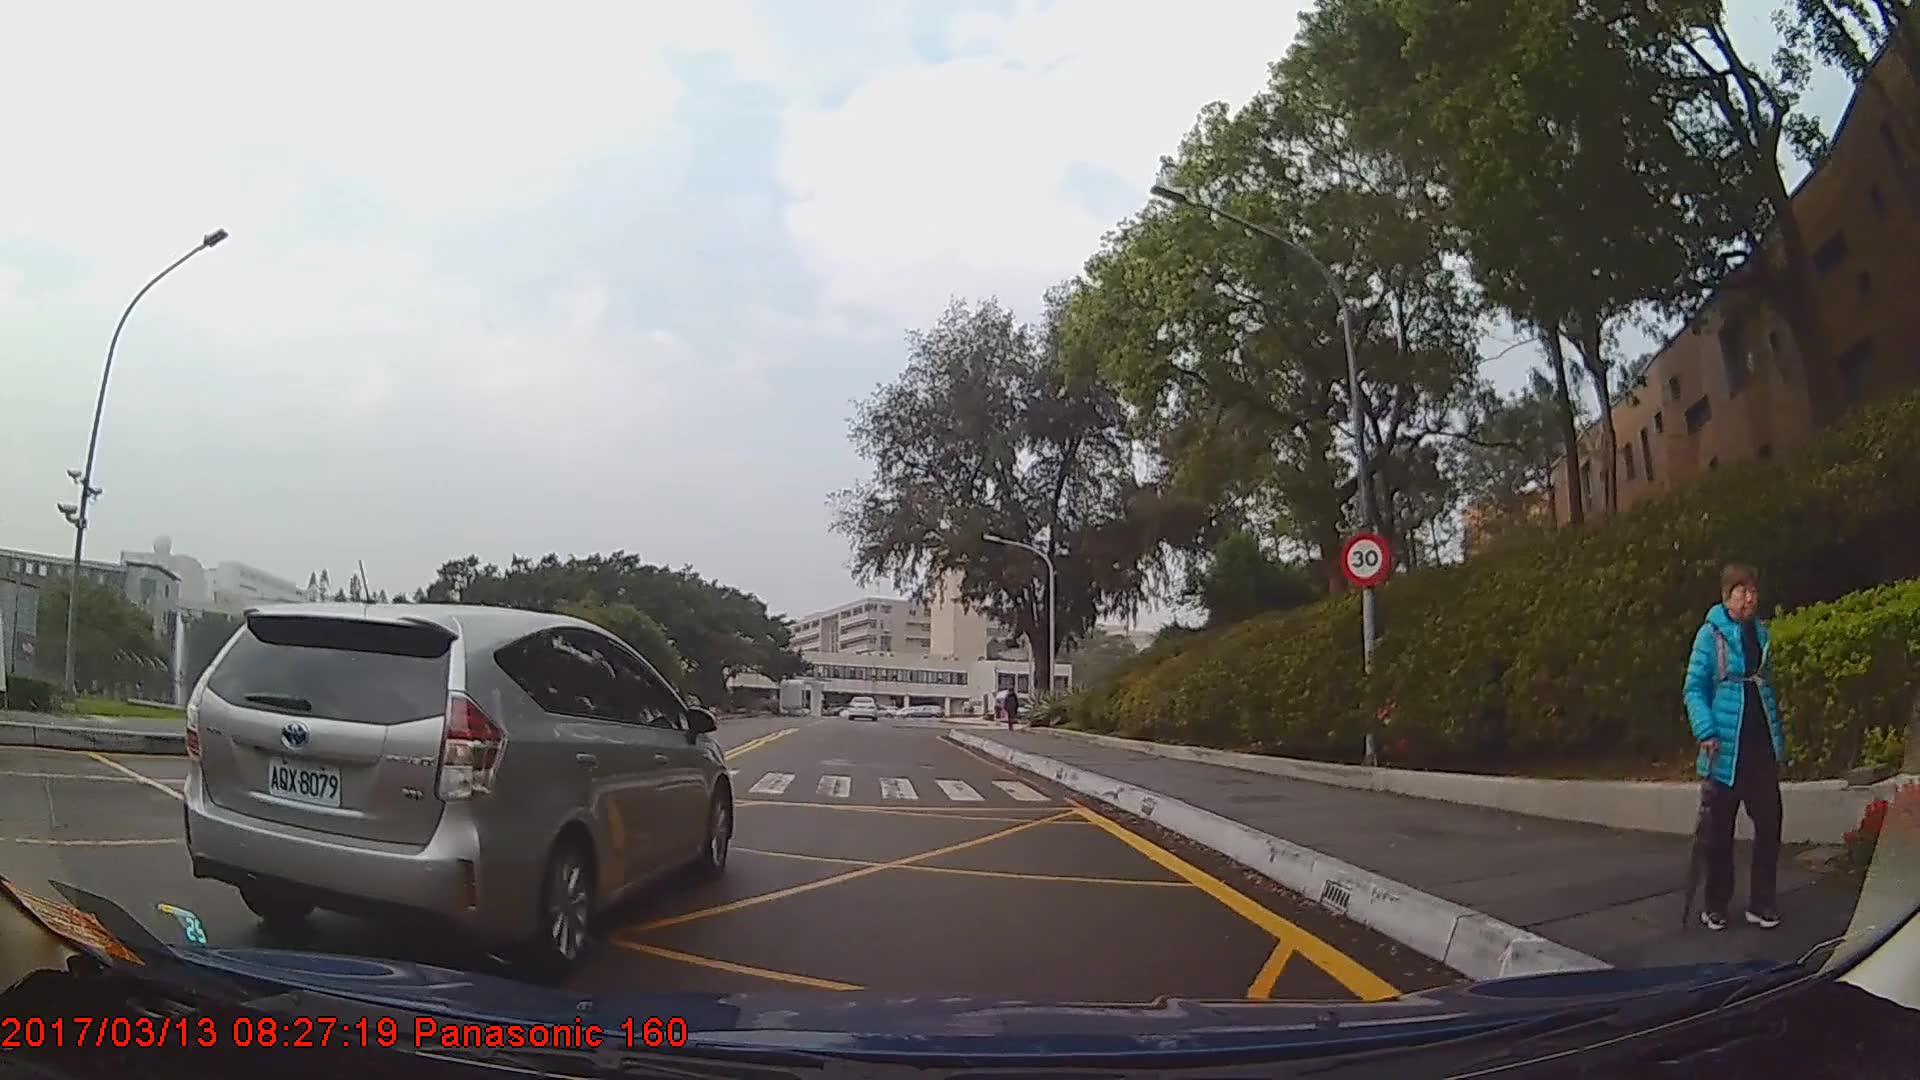pedestrian: (1686, 557, 1797, 930), (1003, 689, 1023, 733)
vehicle: (182, 601, 734, 975), (846, 693, 876, 720)
